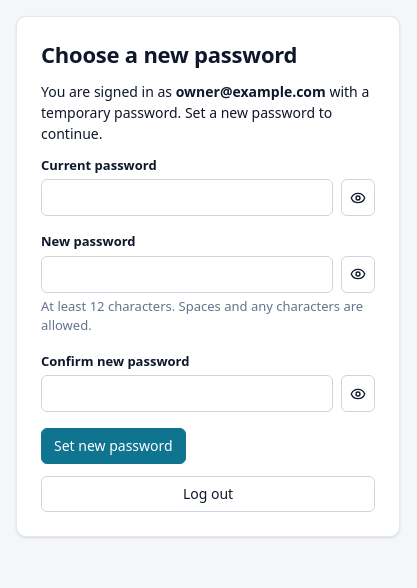
a failed logout on the forced-change page shows an error and stays
Click the button "Log out" at (208, 494), box [41,476,375,512]
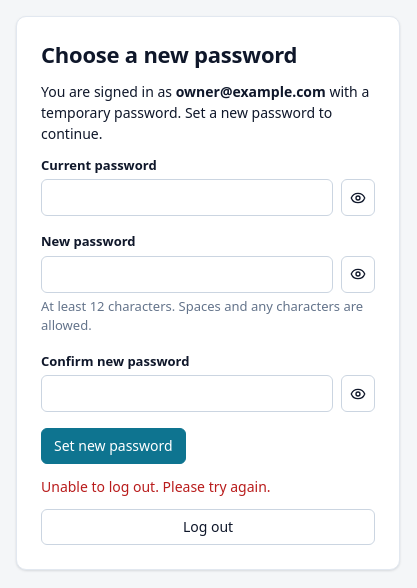
Expected: the button "Log out" is enabled, [41,509,375,545]
Now the message shows "Unable to log out", box [41,477,271,496]
